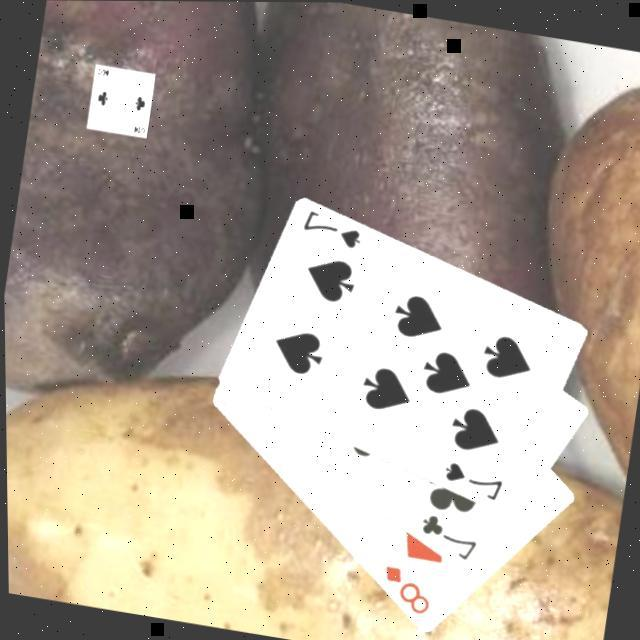7C: (411, 508, 482, 562)
7S: (435, 454, 507, 502), (295, 204, 367, 252)
8D: (372, 559, 436, 618)
